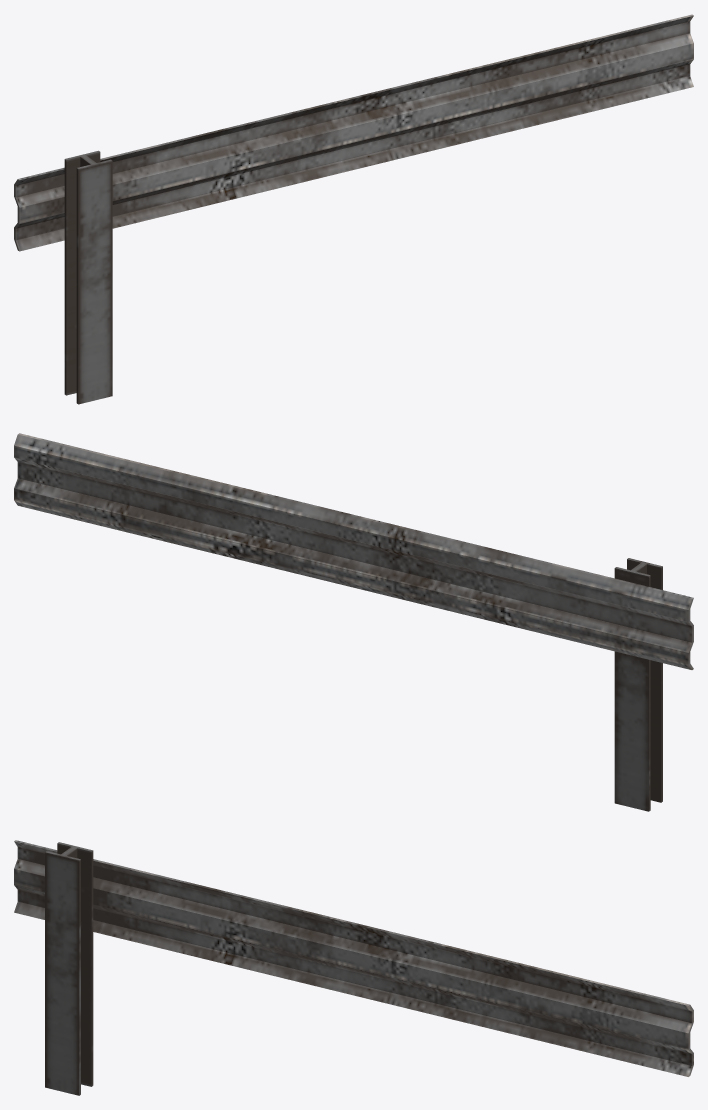
The model's file is Guardrail 1 support.fbx.
3 views of the same model, one above another, from view 1: azimuth 30°, elevation 25°; view 2: azimuth 150°, elevation 25°; view 3: azimuth 330°, elevation 25° (orthographic).
Visible parts, largest first — view 1: Guardrail 1Sup; view 2: Guardrail 1Sup; view 3: Guardrail 1Sup.
Part boxes in pixels (left/top/right/bottom): Guardrail 1Sup: left=14, top=14, right=693, bottom=404; Guardrail 1Sup: left=14, top=433, right=693, bottom=811; Guardrail 1Sup: left=14, top=840, right=693, bottom=1095.
Bounding box in the file's own units: 300 × 100 × 14.96.
